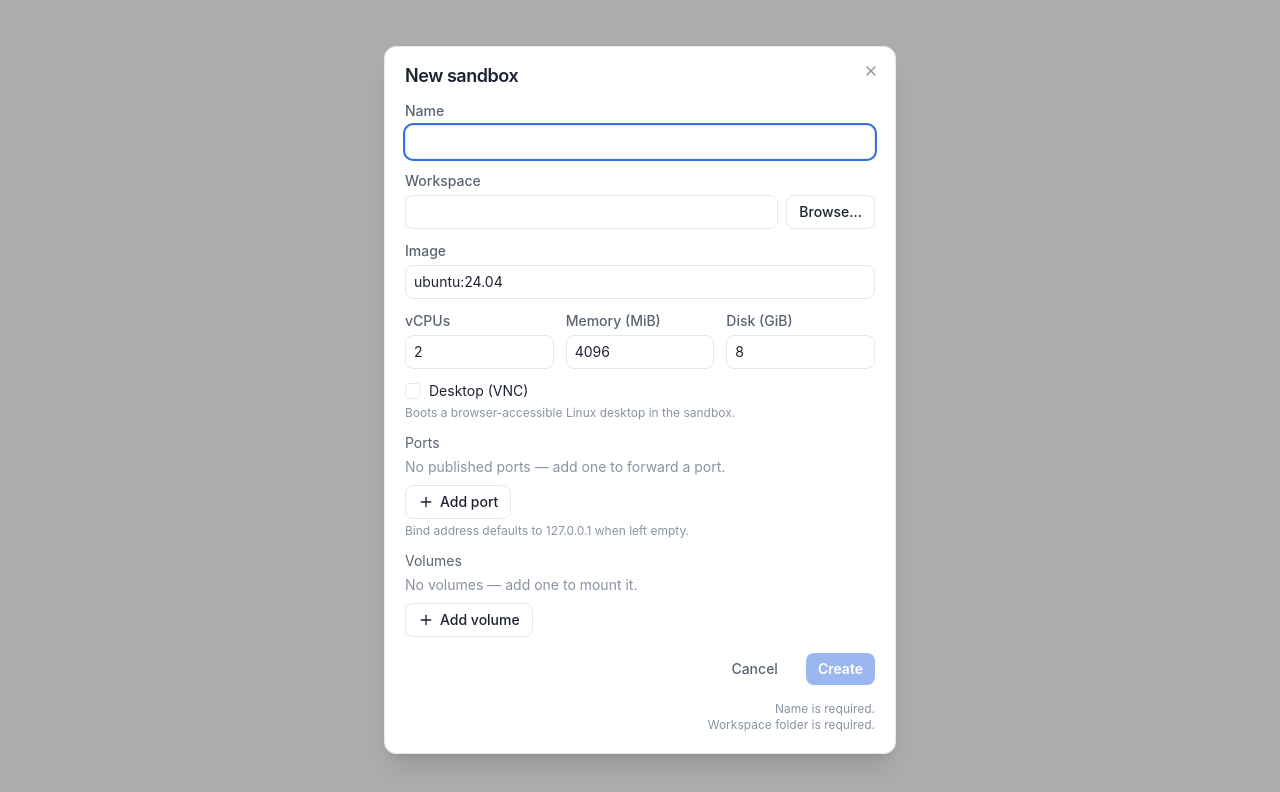
NewSandbox › 'Add volume' appends a row
Click the button "Add volume": point(469, 620) [405,603,533,637]
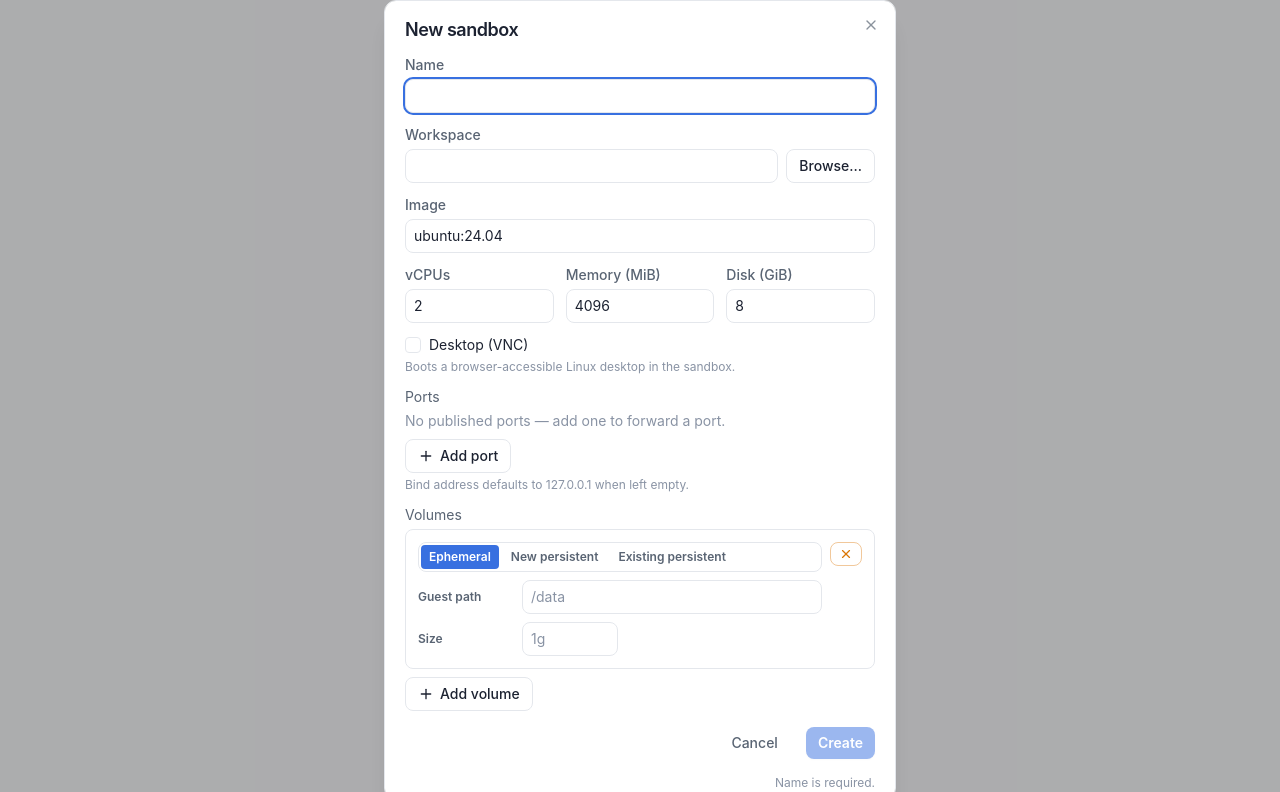
Check: the field named "volume 1 path" is shown, box [522,580,822,614]
